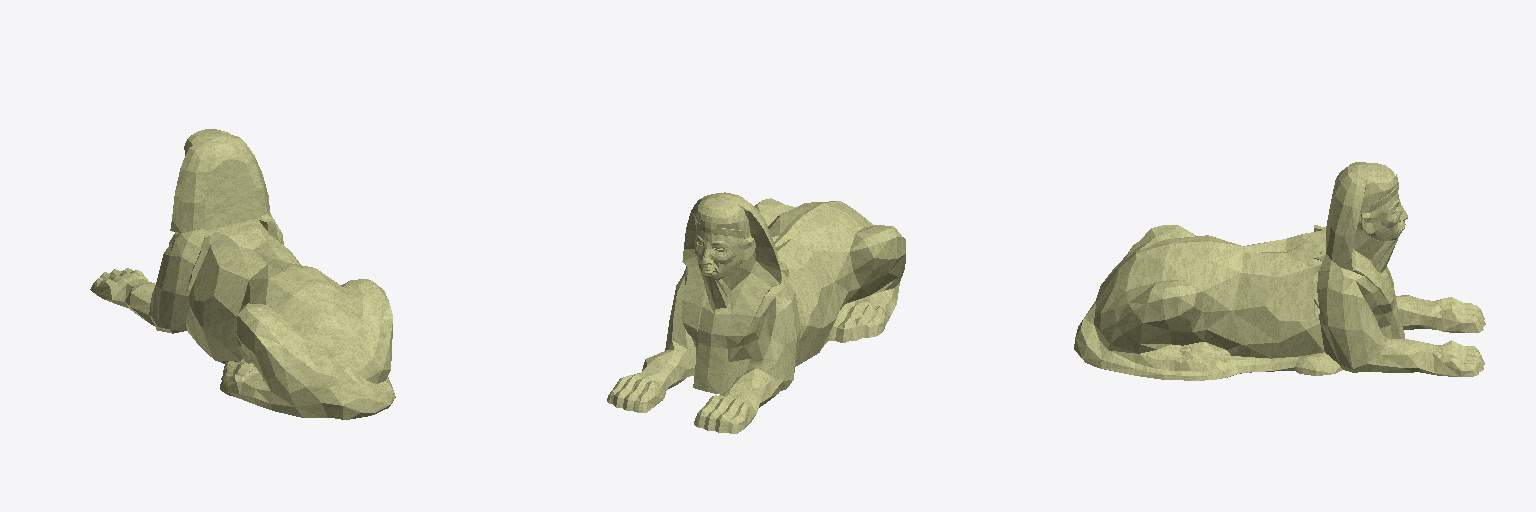
3 views of the same model, side by side, from view 1: azimuth 30°, elevation 25°; view 2: azimuth 150°, elevation 25°; view 3: azimuth 270°, elevation 25° (orthographic).
Parts seen in each view (by area): view 1: Meshpart1; view 2: Meshpart1; view 3: Meshpart1.
Boxes of the visible parts, <box> form: Meshpart1: <box>90,129,395,419</box>; Meshpart1: <box>607,192,905,433</box>; Meshpart1: <box>1074,162,1485,380</box>.
Bounding box in the file's own units: 19.6 × 22.97 × 48.05.
Materials: 1 (1 with a texture image).